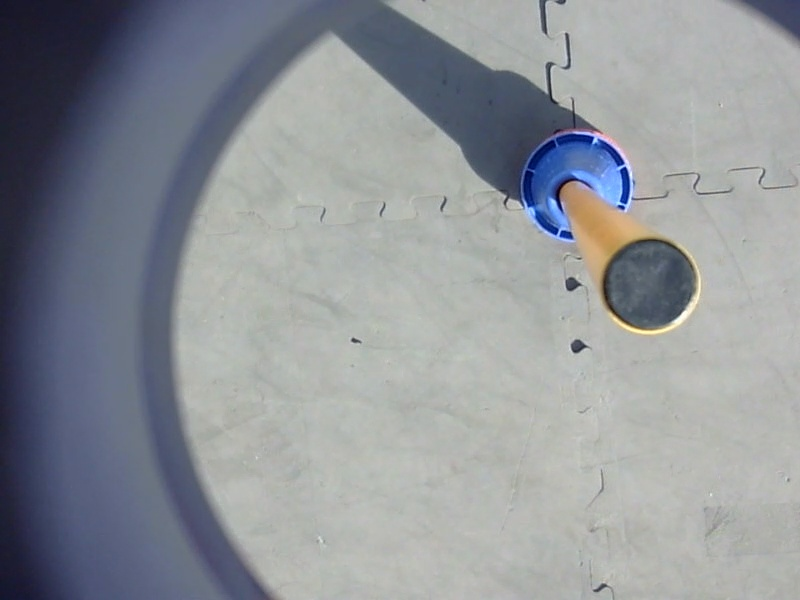tip: (597, 233, 707, 341)
